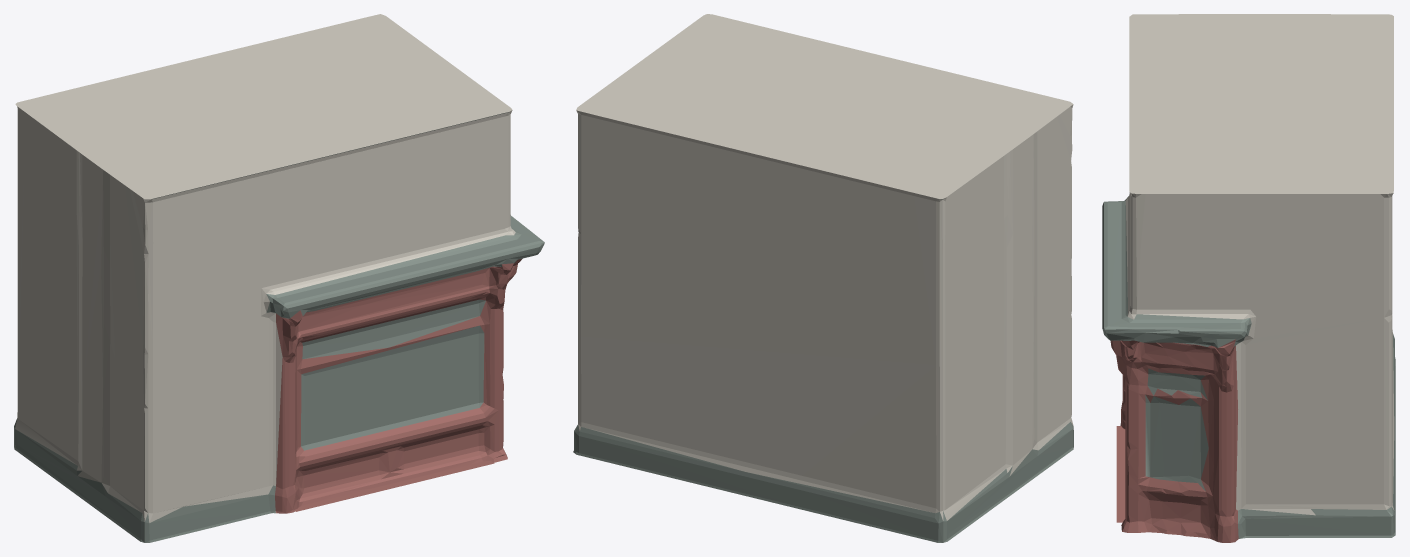
File: etape-1.glb
3 renders of one model, left to right at view 1: azimuth 30°, elevation 25°; view 2: azimuth 150°, elevation 25°; view 3: azimuth 270°, elevation 25°, orthographic.
Visible parts, largest first — view 1: geometry_0; view 2: geometry_0; view 3: geometry_0.
Boxes of the visible parts, box(x1,y1,x2,y2) form: geometry_0: box(14, 14, 544, 542); geometry_0: box(573, 14, 1073, 542); geometry_0: box(1102, 14, 1395, 542).
Bounding box in the file's own units: 0.764 × 0.6368 × 0.4933.
